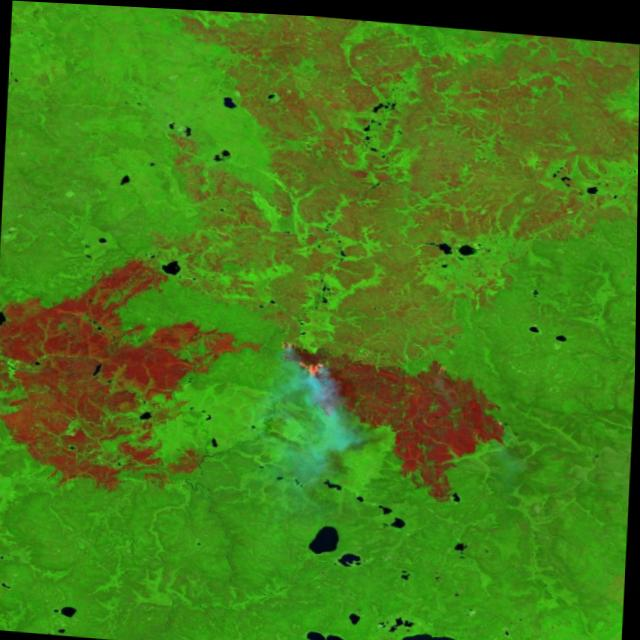fire: (269, 338, 337, 383)
